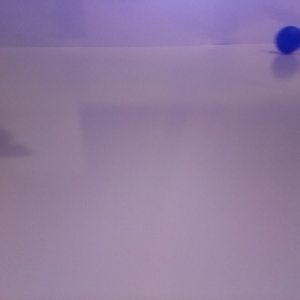dead_ball: (275, 26, 300, 53)
